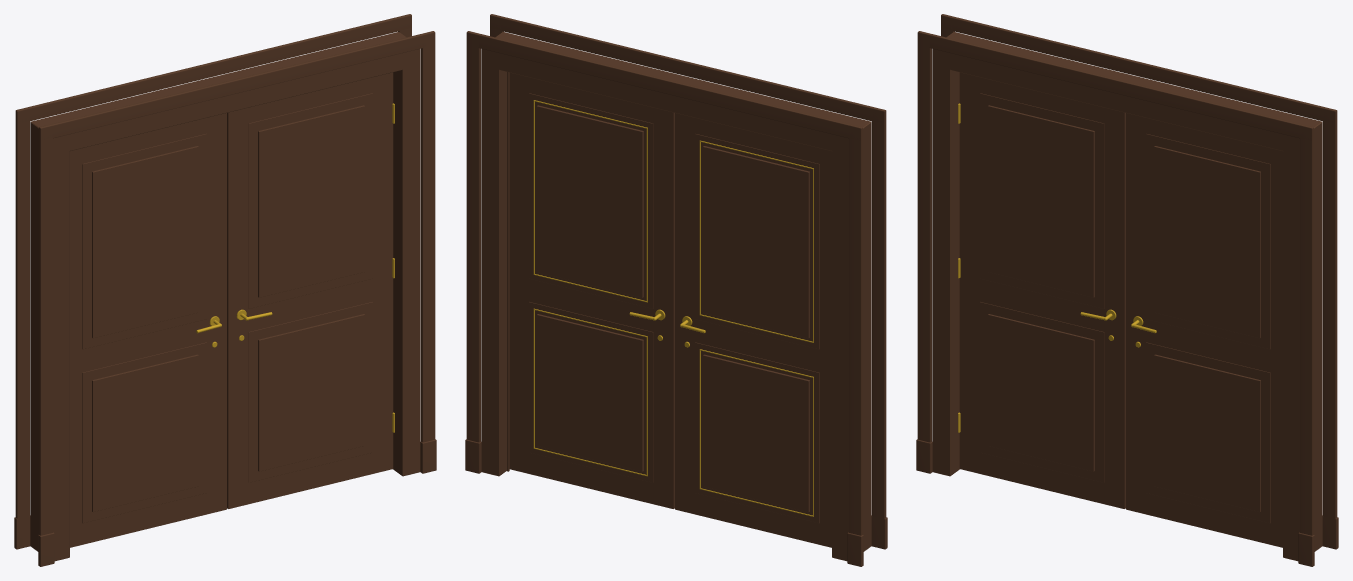
File: prop_door_double_walnut_t20.glb
3 views of the same model, side by side, from view 1: azimuth 30°, elevation 25°; view 2: azimuth 150°, elevation 25°; view 3: azimuth 330°, elevation 25° (orthographic).
Visible parts, largest first — view 1: LeafMesh2, LeafMesh, Frame; view 2: LeafMesh2, Frame, LeafMesh; view 3: LeafMesh, LeafMesh2, Frame.
Boxes of the visible parts, bbox=[...] form: LeafMesh2: bbox=[227, 72, 394, 508]; LeafMesh: bbox=[70, 113, 226, 547]; Frame: bbox=[14, 14, 436, 566]; LeafMesh2: bbox=[509, 72, 674, 508]; Frame: bbox=[465, 14, 887, 566]; LeafMesh: bbox=[675, 113, 831, 547]; LeafMesh: bbox=[958, 72, 1125, 508]; LeafMesh2: bbox=[1126, 113, 1282, 547]; Frame: bbox=[916, 14, 1338, 566].
Size of what is drawn, in the model's own units: 2.15 by 2.27 by 0.248.
